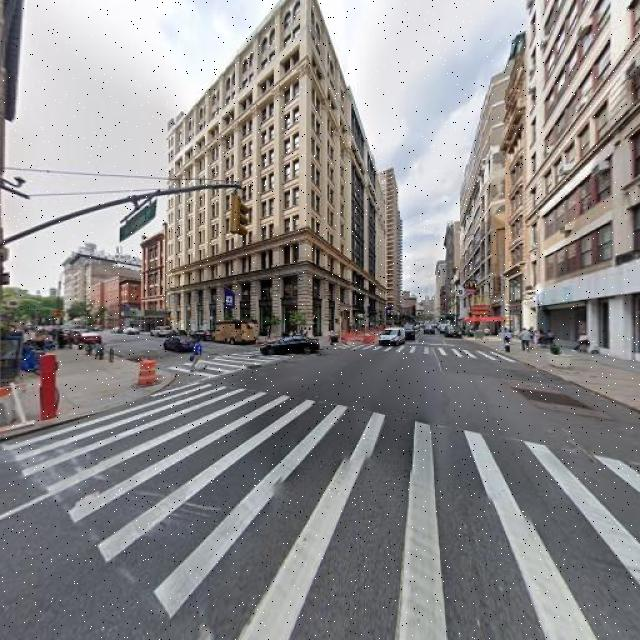Building: (167, 1, 387, 344), (523, 1, 640, 358)
